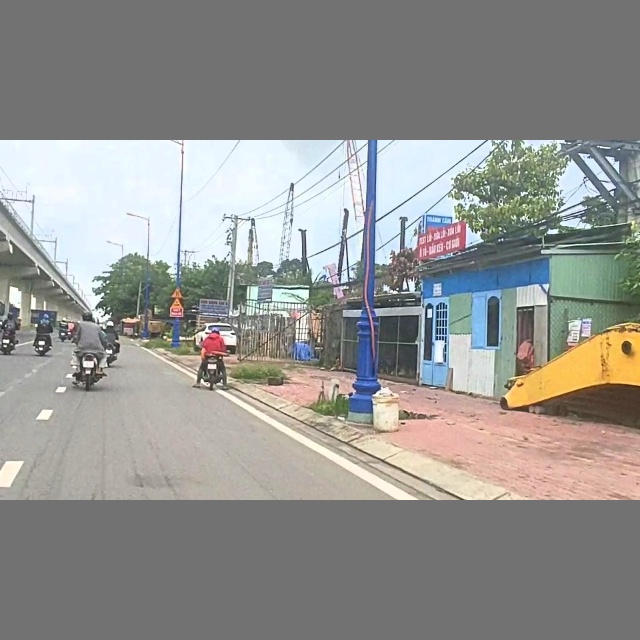W.203c: (171, 287, 184, 298)
W.245a: (170, 298, 185, 308)
